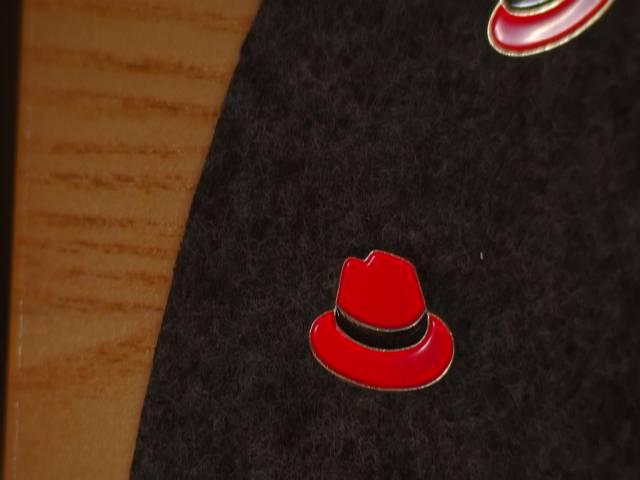Red-Hat: (297, 235, 500, 397), (472, 0, 640, 75)
